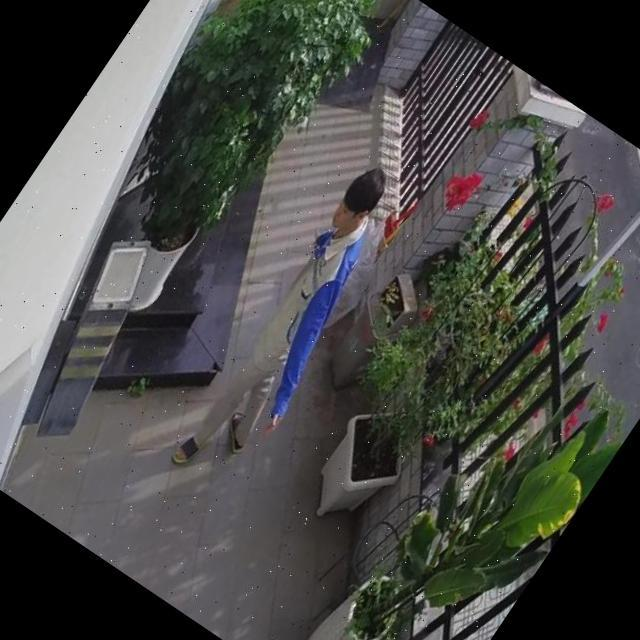person: (165, 156, 432, 500)
